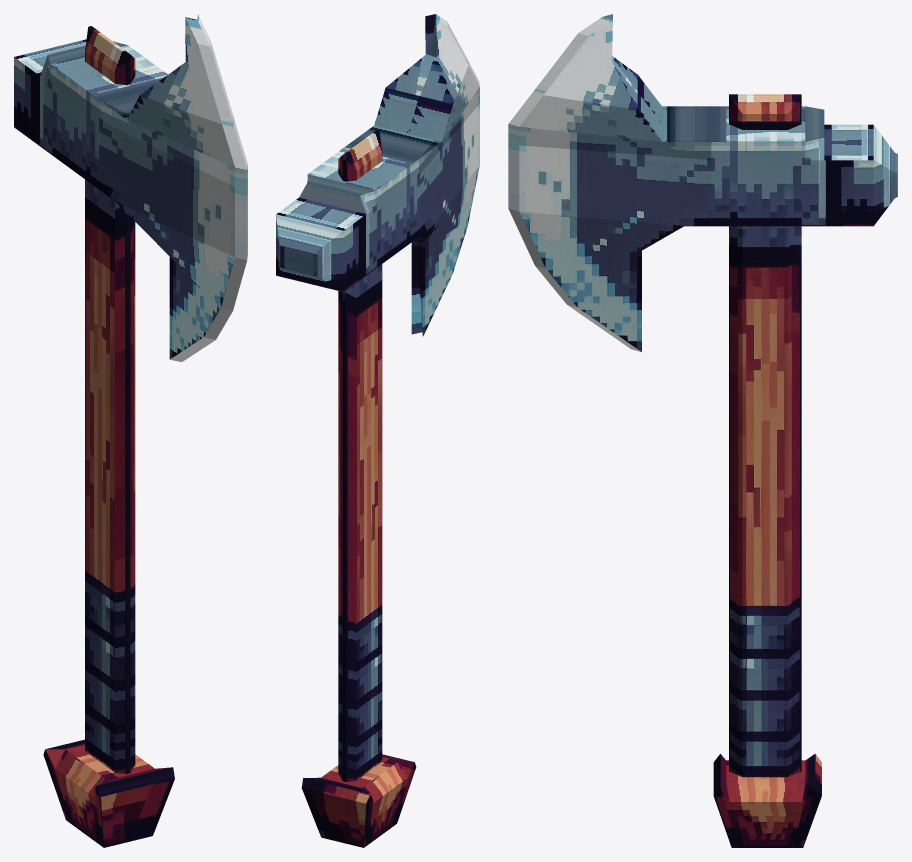
File: axe.glb
3 views of the same model, side by side, from view 1: azimuth 30°, elevation 25°; view 2: azimuth 150°, elevation 25°; view 3: azimuth 270°, elevation 25° (orthographic). The views are drawn at different scales.
Visible parts, largest first — view 1: OIG3.O, OIG3.O.001; view 2: OIG3.O, OIG3.O.001; view 3: OIG3.O, OIG3.O.001.
Boxes of the visible parts, box(x1,y1,x2,y2) form: OIG3.O: box(14, 14, 247, 847); OIG3.O.001: box(85, 26, 135, 773); OIG3.O: box(276, 14, 479, 847); OIG3.O.001: box(338, 130, 382, 781); OIG3.O: box(508, 14, 897, 847); OIG3.O.001: box(729, 94, 801, 777).
Bounding box in the file's own units: 0.1067 × 1.15 × 0.4941.
1 material, 1 textured.
